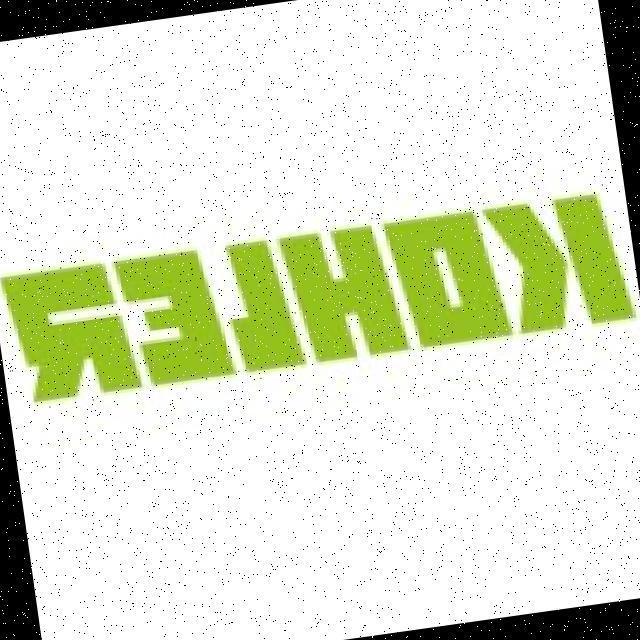Kohler: (0, 179, 638, 413)
